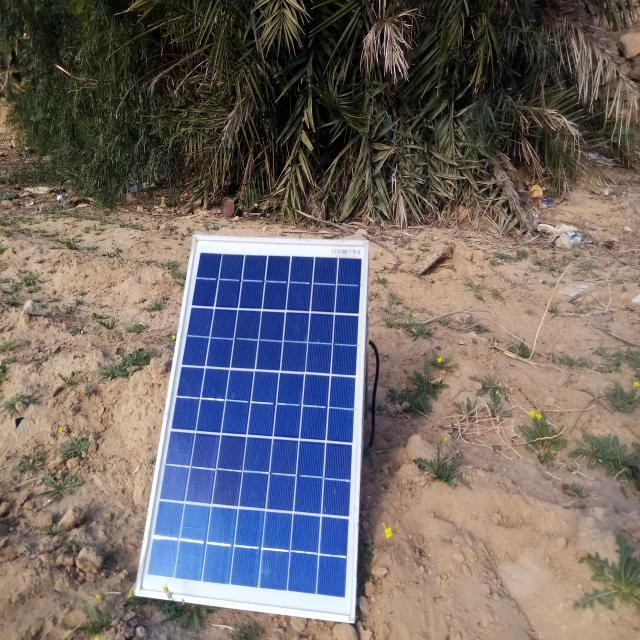no faulty: (135, 236, 367, 622)
